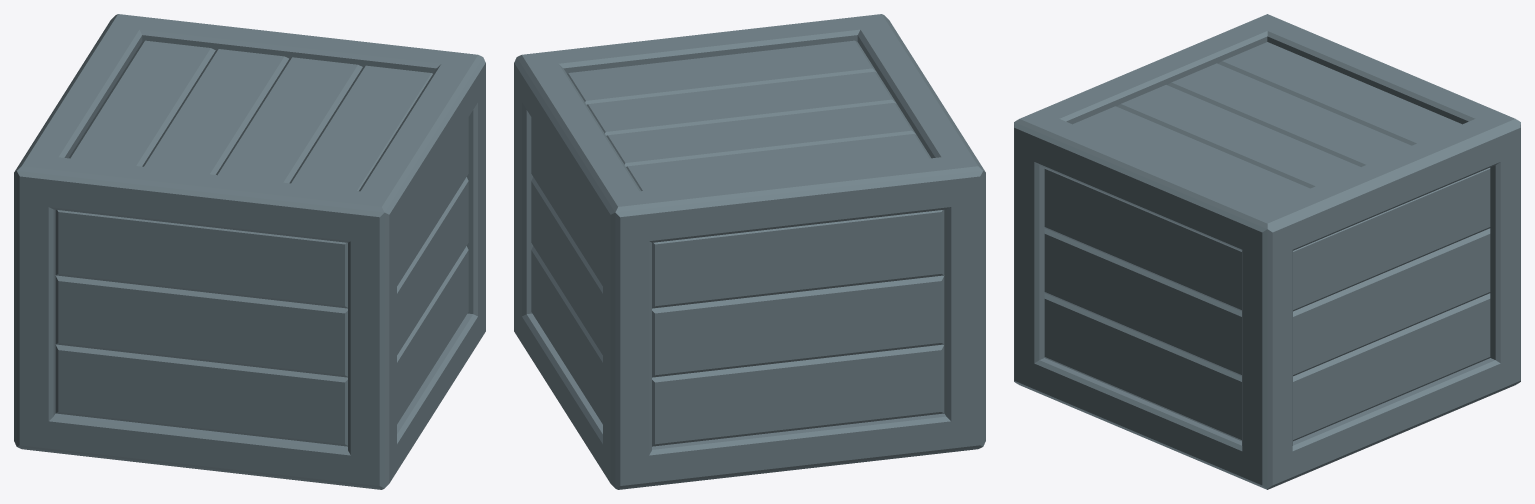
The model's file is fp_crates_veg.glb.
The picture shows the model from 3 angles, left to right: view 1: azimuth 30°, elevation 25°; view 2: azimuth 150°, elevation 25°; view 3: azimuth 270°, elevation 25°; orthographic projection. The views are drawn at different scales.
Size of the model in its own units: 0.396 by 0.2296 by 0.396.
